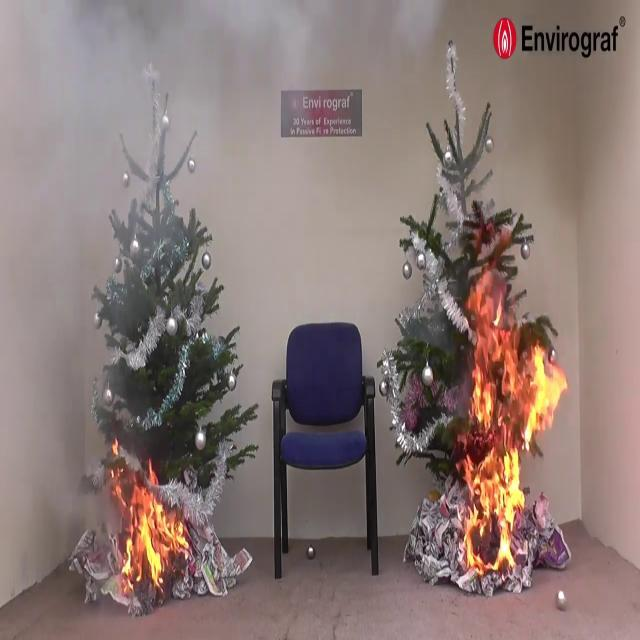Fire: (458, 297, 568, 573), (109, 466, 188, 592)
Smoke: (1, 5, 118, 612)
